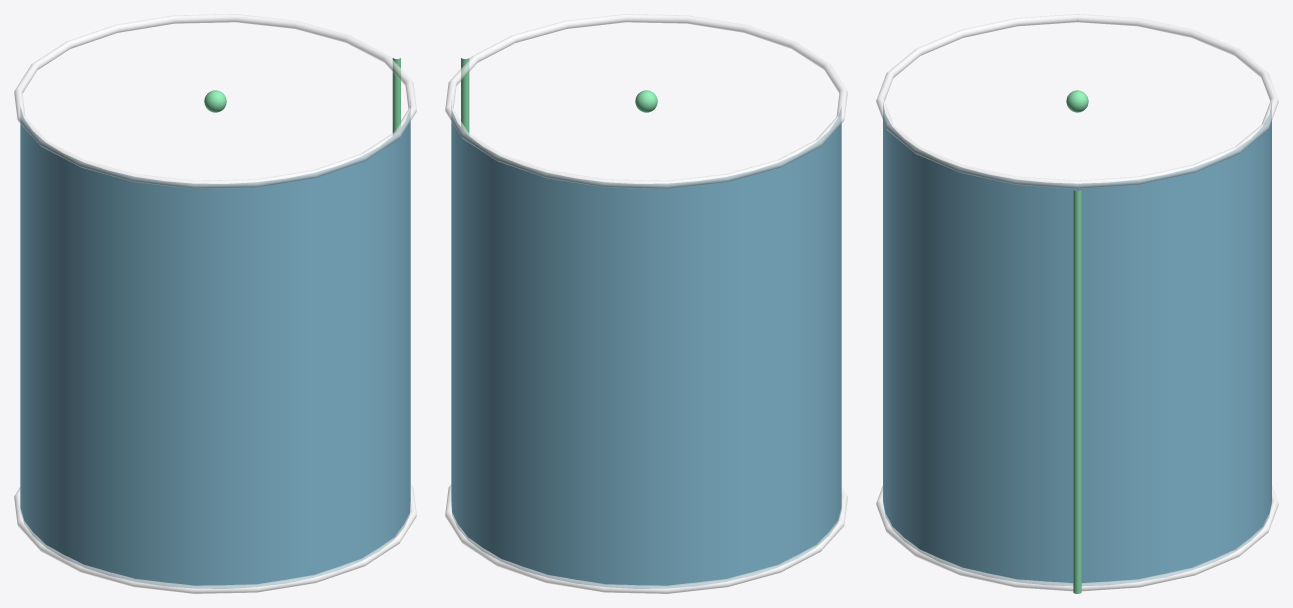
3 views of the same model, side by side, from view 1: azimuth 30°, elevation 25°; view 2: azimuth 150°, elevation 25°; view 3: azimuth 270°, elevation 25° (orthographic).
Visible parts, largest first — view 1: cylinder, top_circle, bottom_circle, height_axis; view 2: cylinder, top_circle, bottom_circle, height_axis; view 3: cylinder, top_circle, bottom_circle, height_axis.
Part boxes in pixels (x1,y1,x2,y2): cylinder: [20, 106, 410, 588]; top_circle: [14, 14, 416, 188]; bottom_circle: [14, 485, 416, 593]; height_axis: [392, 58, 400, 135]; cylinder: [451, 106, 841, 588]; top_circle: [445, 14, 847, 188]; bottom_circle: [445, 485, 847, 593]; height_axis: [461, 58, 469, 135]; cylinder: [883, 103, 1271, 585]; top_circle: [876, 14, 1278, 188]; bottom_circle: [876, 486, 1278, 591]; height_axis: [1073, 190, 1081, 593].
Bounding box in the file's own units: 1.1 × 1.28 × 1.07.
